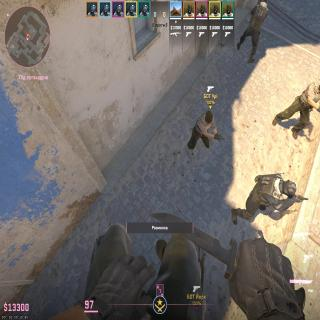CT-Body: (230, 172, 298, 224), (250, 0, 269, 62)
CT-Head: (282, 180, 297, 198)
T-Body: (279, 82, 320, 130), (192, 110, 215, 149)
T-Head: (206, 110, 213, 123)
